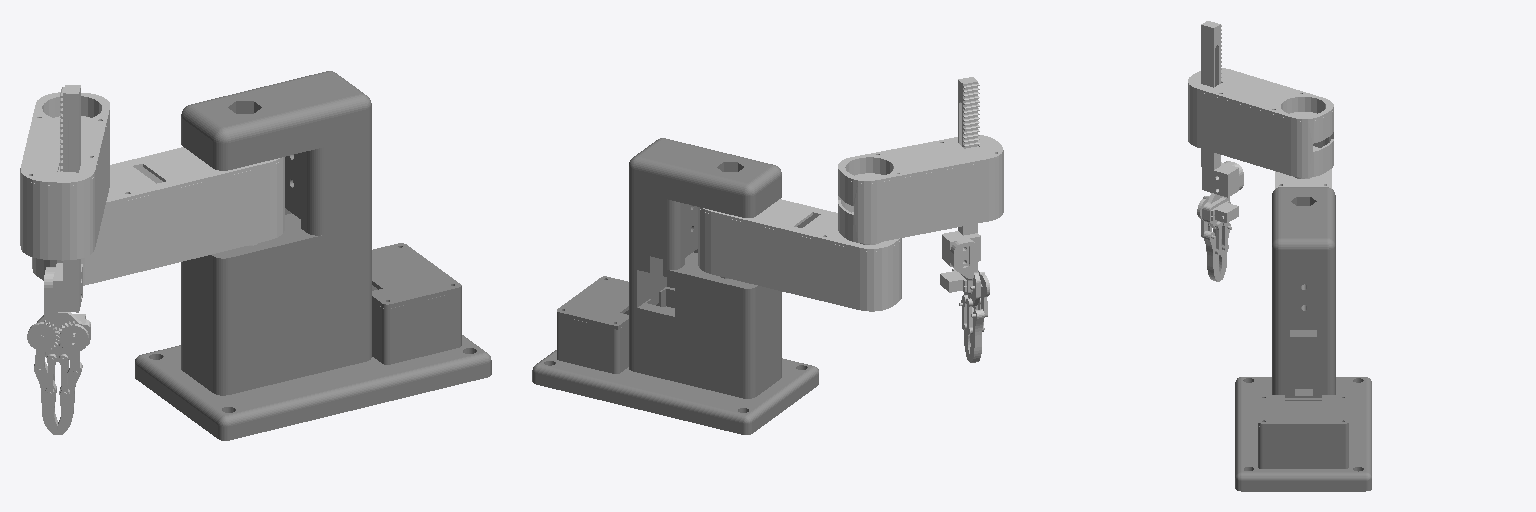
The robot description file, URDF, robot "scara_control":
<robot name="scara_control">
    <!-- Global Material Definitions -->
    <material name="aluminium">
        <color rgba="0.8 0.8 0.8 1.0" /> <!-- Light metallic gray -->
    </material>
    <material name="steel">
        <color rgba="0.6 0.6 0.6 1.0" /> <!-- Darker metallic gray -->
    </material>
    <material name="plastic">
        <color rgba="0.1 0.1 0.1 1.0" /> <!-- Black for plastic parts -->
    </material>
    <material name="glass">
        <color rgba="0.7 0.7 1.0 0.5" /> <!-- Semi-transparent glass -->
    </material>

    <!-- Base Link -->
    <link name="base_link">
        <visual>
            <origin xyz="0 0 0" rpy="0 0 0" />
            <geometry>
                <mesh filename="scara_meshes/base_link.STL" />
            </geometry>
            <material name="steel" />
        </visual>
        <collision>
            <origin xyz="0 0 0" rpy="0 0 0" />
            <geometry>
                <mesh filename="scara_meshes/base_link.STL" />
            </geometry>
        </collision>
    </link>

    <!-- Joint 1 -->
    <joint name="joint_1" type="revolute">
        <origin xyz="0.065 0 0" rpy="0 0 0" />
        <parent link="base_link" />
        <child link="link_1" />
        <axis xyz="0 0 1" />
        <limit lower="-3.28" upper="-0.20" effort="300" velocity="2.53" />
    </joint>

    <!-- Link 1 -->
    <link name="link_1">
        <visual>
            <origin xyz="0 0 0" rpy="0 0 0" />
            <geometry>
                <mesh filename="scara_meshes/link_1.STL" />
            </geometry>
            <material name="aluminium" />
        </visual>
        <collision>
            <origin xyz="0 0 0" rpy="0 0 0" />
            <geometry>
                <mesh filename="scara_meshes/link_1.STL" />
            </geometry>
        </collision>
    </link>

    <!-- Joint 2 -->
    <joint name="joint_2" type="revolute">
        <origin xyz="0.028115 -0.16259 0.2335" rpy="0 0 0" />
        <parent link="link_1" />
        <child link="link_2" />
        <axis xyz="0 0 1" />
        <limit lower="-2.68" upper="0.79" effort="200" velocity="2.53" />
    </joint>

    <!-- Link 2 -->
    <link name="link_2">
        <visual>
            <origin xyz="0 0 0" rpy="0 0 0" />
            <geometry>
                <mesh filename="scara_meshes/link_2.STL" />
            </geometry>
            <material name="aluminium" />
        </visual>
        <collision>
            <origin xyz="0 0 0" rpy="0 0 0" />
            <geometry>
                <mesh filename="scara_meshes/link_2.STL" />
            </geometry>
        </collision>
    </link>

    <!-- Joint 3 -->
    <joint name="joint_3" type="prismatic">
        <origin xyz="0.10838 -0.062931 0.0386" rpy="0 0 0" />
        <parent link="link_2" />
        <child link="link_3" />
        <axis xyz="0 0 1" />
        <limit lower="-0.08" upper="0" effort="50" velocity="1" />
    </joint>

    <!-- Link 3 -->
    <link name="link_3">
        <visual>
            <origin xyz="0 0 0" rpy="0 0 0" />
            <geometry>
                <mesh filename="scara_meshes/link_3.STL" />
            </geometry>
            <material name="aluminium" />
        </visual>
        <collision>
            <origin xyz="0 0 0" rpy="0 0 0" />
            <geometry>
                <mesh filename="scara_meshes/link_3.STL" />
            </geometry>
        </collision>
    </link>

    <!-- Gazebo Plugin -->
    <gazebo>
        <plugin name="gazebo_ros_control" filename="libgazebo_ros_control.so">
            <robotNamespace>/scara_control</robotNamespace>
        </plugin>
    </gazebo>
</robot>

--- Facts derived from the render (not from the file) ---
3 views of the same robot in one strip: view 1: azimuth 30°, elevation 25°; view 2: azimuth 150°, elevation 25°; view 3: azimuth 270°, elevation 25° (orthographic).
Model scara_control with 4 links and 3 joints (2 revolute, 1 prismatic), rooted at base_link, posed all joints at 0 but 1 set to mid-range because 0 is outside their limits (joint_1 = -1.74).
Links seen in each view (by area): view 1: base_link, link_1, link_2, link_3; view 2: base_link, link_1, link_2, link_3; view 3: base_link, link_2, link_3, link_1.
Link boxes in pixels (x1,y1,x2,y2): base_link: (135,71,491,440); link_1: (32,147,284,285); link_2: (20,92,109,260); link_3: (27,85,90,434); base_link: (532,138,818,434); link_1: (698,199,901,311); link_2: (838,135,1003,244); link_3: (940,77,989,362); base_link: (1235,187,1371,491); link_2: (1188,68,1333,178); link_3: (1197,21,1243,281); link_1: (1275,169,1331,188).
Bounding box of the posed robot: 0.4604 × 0.202 × 0.3697 m (x, y, z).
4 mesh visuals loaded from 4 distinct referenced files (4 binary STL).